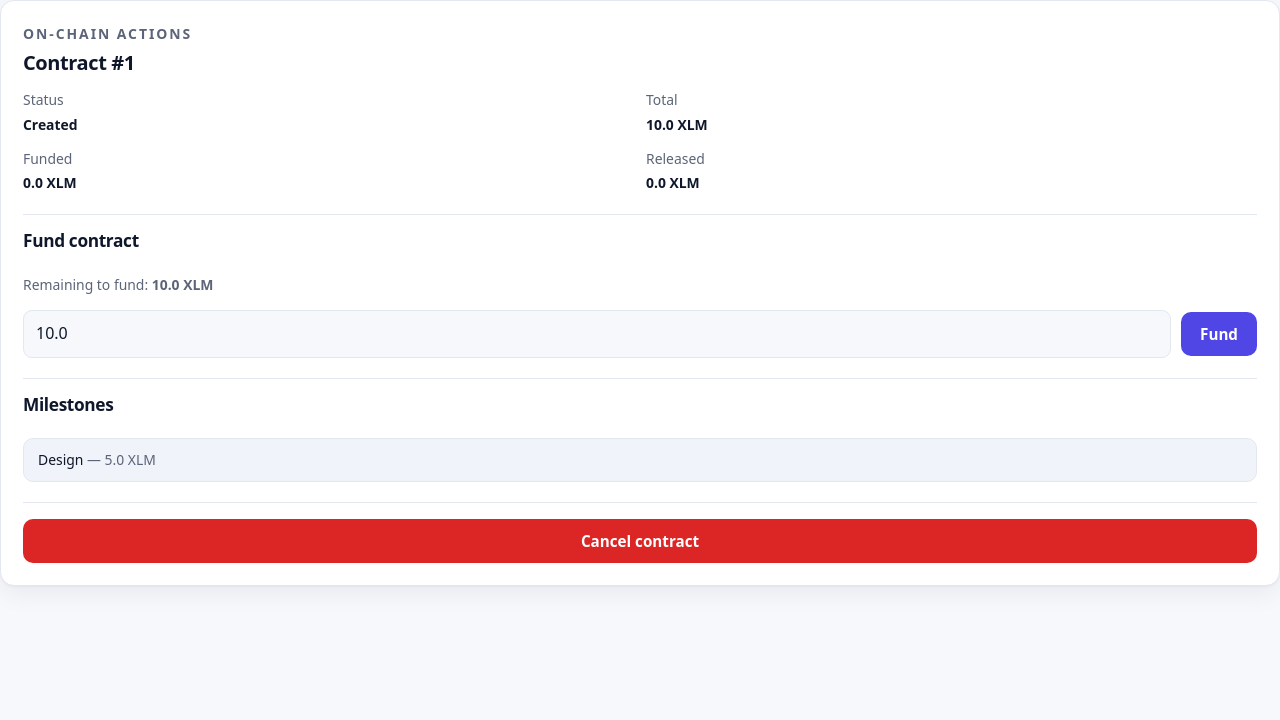
it: failure states › shows error for zero deposit amount
The width and height of the screenshot is (1280, 720).
Step 1. Replace the text in the number field named "deposit amount" with "0" → (597, 334), box [23,310,1171,358]
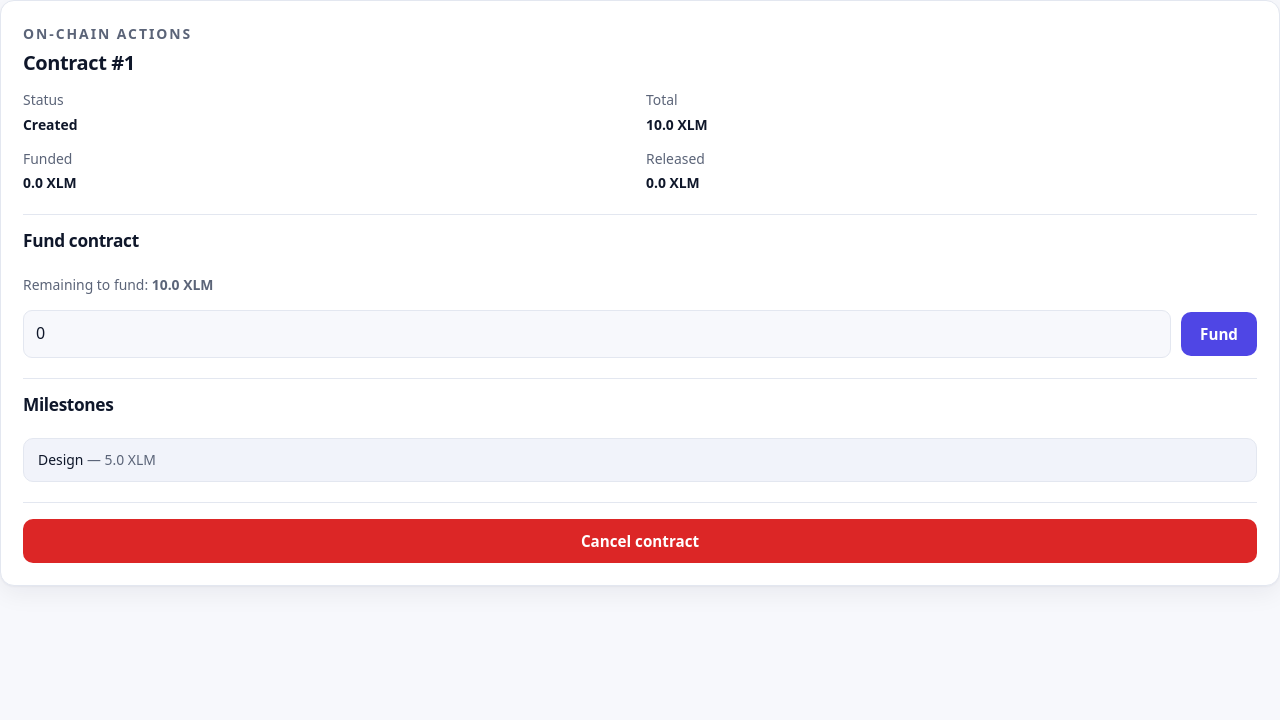
Step 2. Click the button with aria-label "fund contract" → (1219, 334), box [1181,312,1257,356]
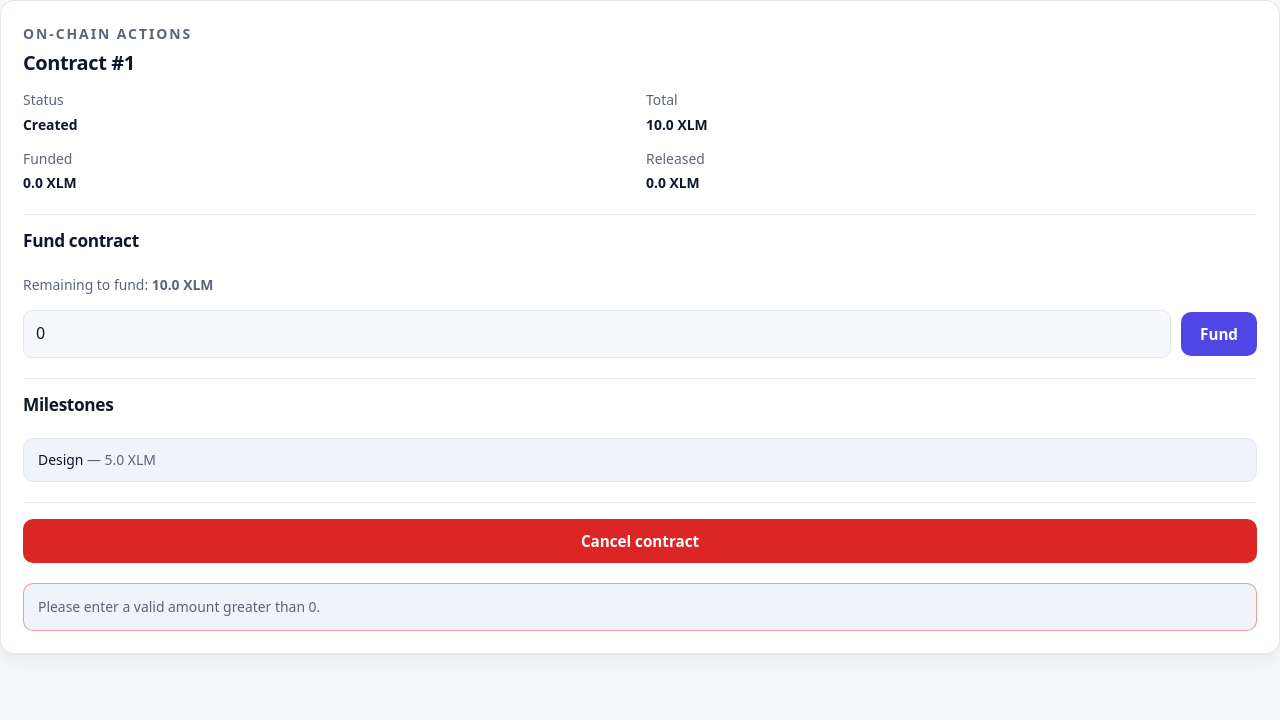
Check: the message shows "valid amount", box [38,597,320,616]
